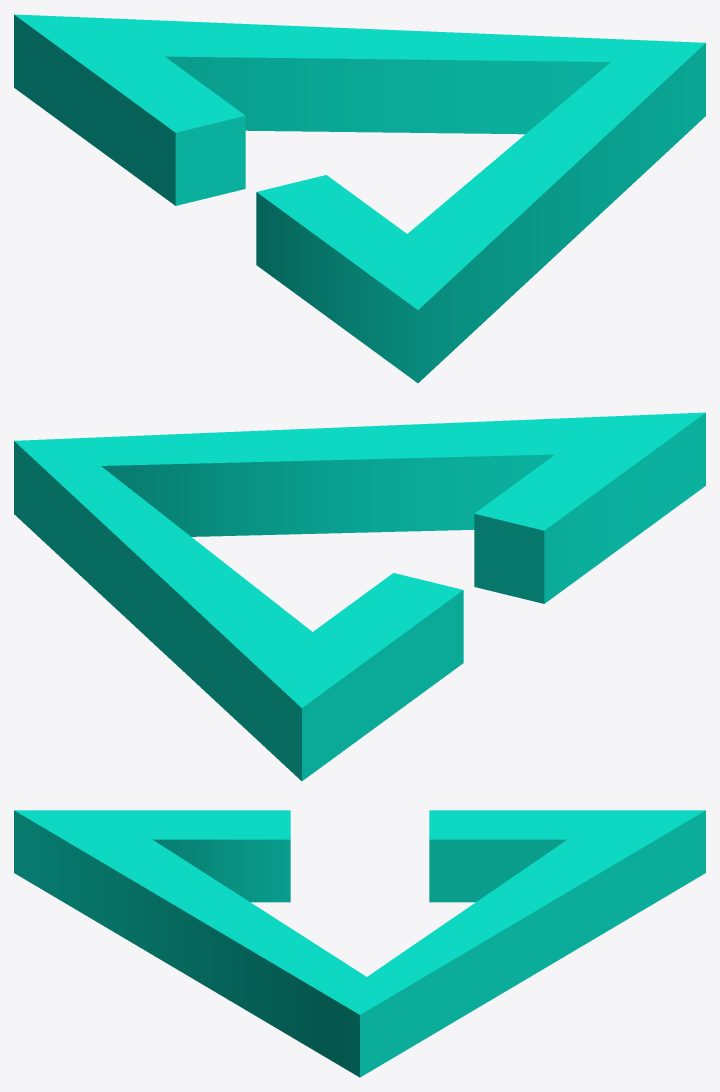
The model's file is arrow_X2.fbx.
3 views of the same model, one above another, from view 1: azimuth 30°, elevation 25°; view 2: azimuth 150°, elevation 25°; view 3: azimuth 270°, elevation 25° (orthographic). The views are drawn at different scales.
Parts seen in each view (by area): view 1: arrow_X2; view 2: arrow_X2; view 3: arrow_X2.
Part boxes in pixels (x1,y1,x2,y2): arrow_X2: [14, 14, 705, 382]; arrow_X2: [14, 412, 705, 780]; arrow_X2: [14, 810, 705, 1077].
Size of the model in its own units: 350 by 50 by 500.
